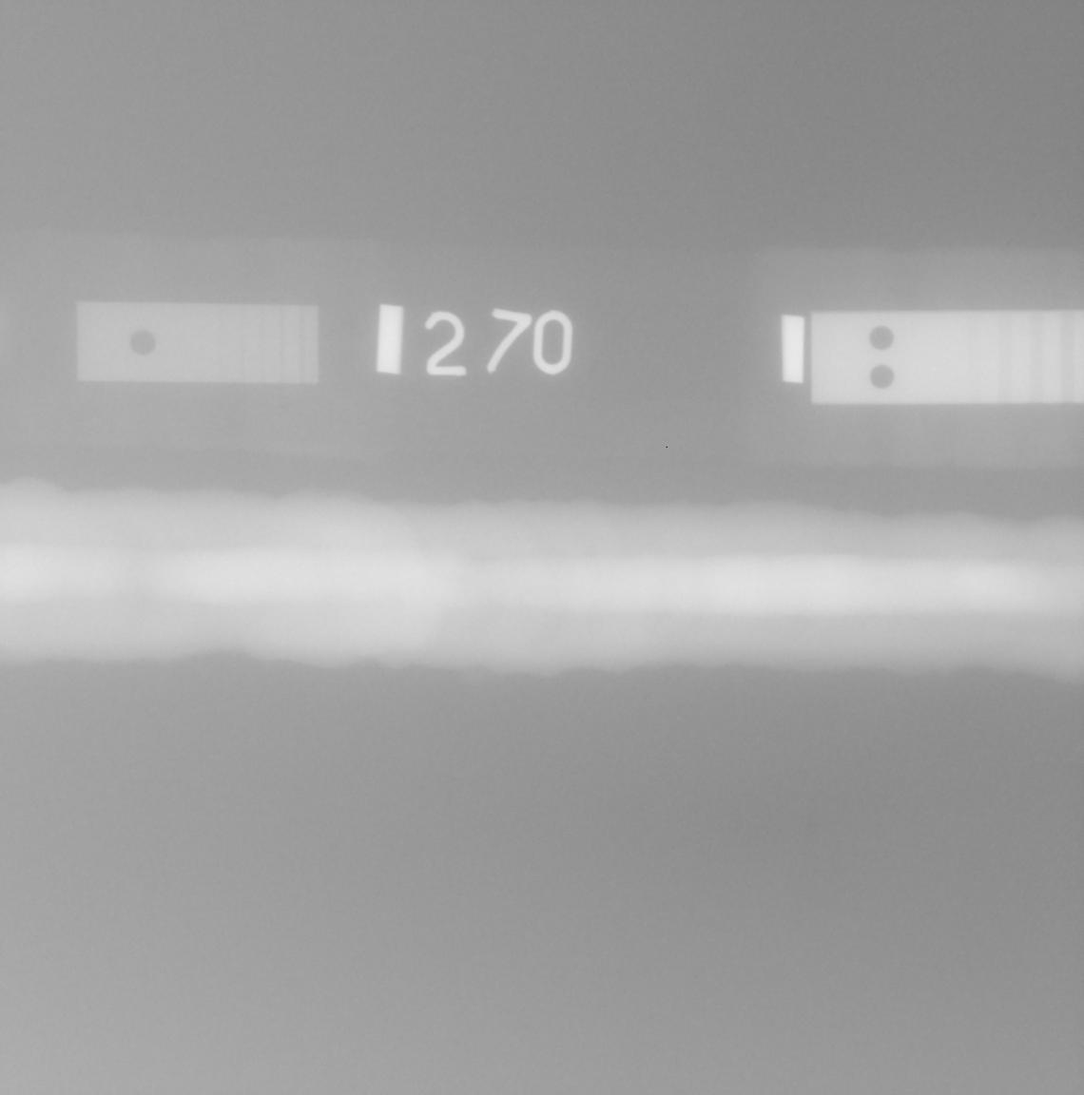Reference Standard 1: (76, 302, 318, 383)
